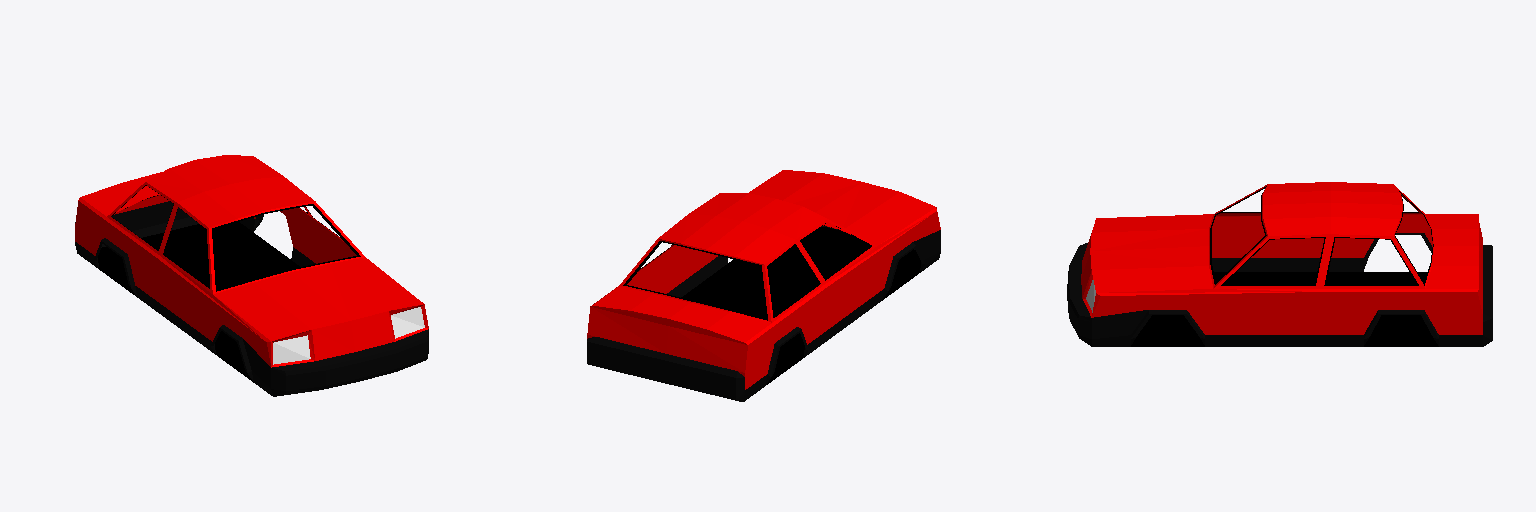
The model's file is CarBody.obj.
The picture shows the model from 3 angles: view 1: azimuth 30°, elevation 25°; view 2: azimuth 150°, elevation 25°; view 3: azimuth 270°, elevation 25°; orthographic projection.
Visible parts, largest first — view 1: CarBody_Car_Cube.003; view 2: CarBody_Car_Cube.003; view 3: CarBody_Car_Cube.003.
Part boxes in pixels (left/top/right/bottom): CarBody_Car_Cube.003: left=75, top=155, right=428, bottom=396; CarBody_Car_Cube.003: left=587, top=170, right=940, bottom=401; CarBody_Car_Cube.003: left=1067, top=182, right=1492, bottom=346.
Bounding box in the file's own units: 2.1 × 1.29 × 4.67.